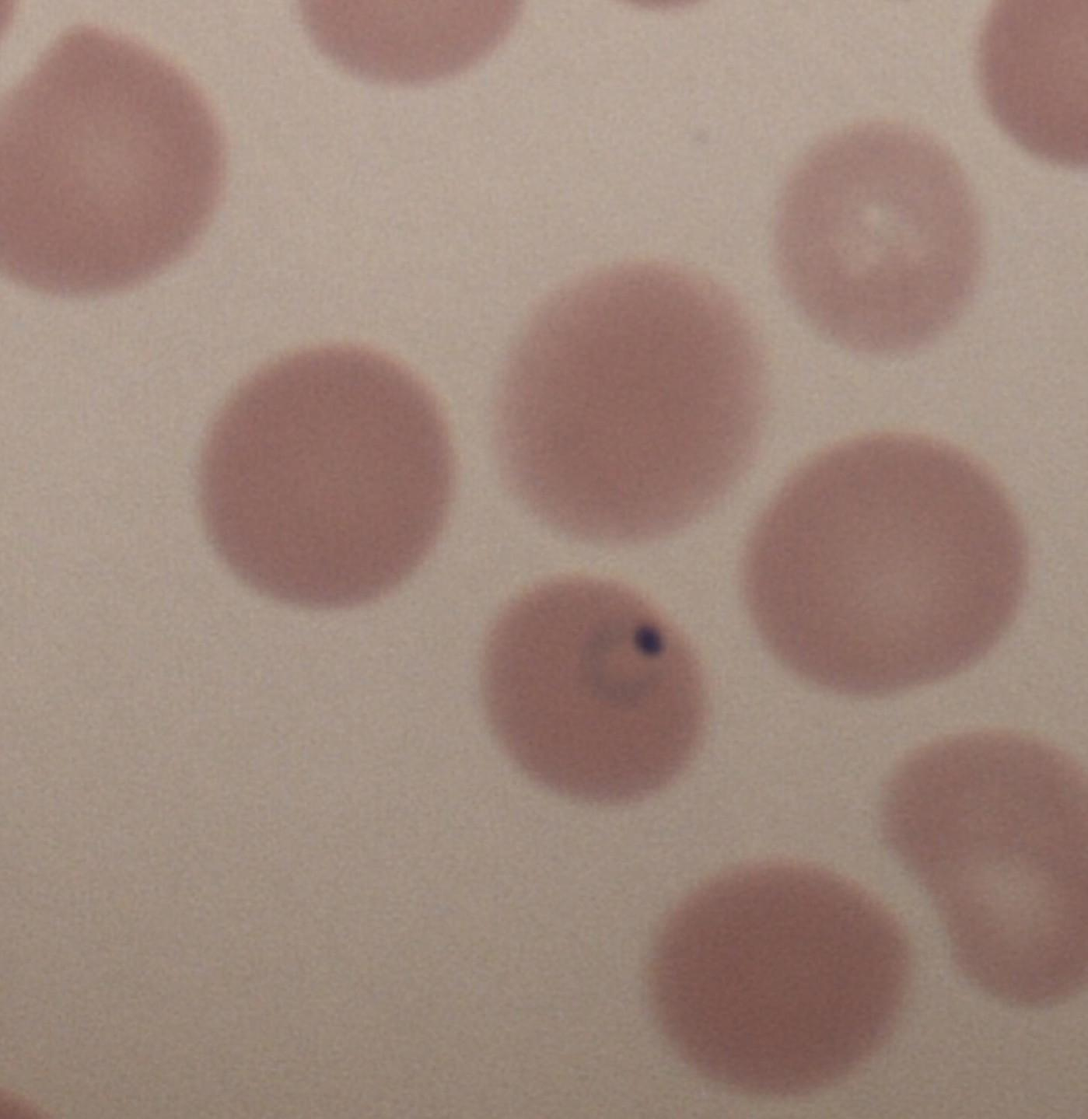Infected: (482, 571, 703, 812)
Uninfected: (503, 265, 773, 537), (747, 436, 1021, 691), (207, 343, 446, 604), (871, 730, 1088, 1006), (0, 27, 219, 288), (653, 859, 893, 1097), (773, 125, 987, 359)
